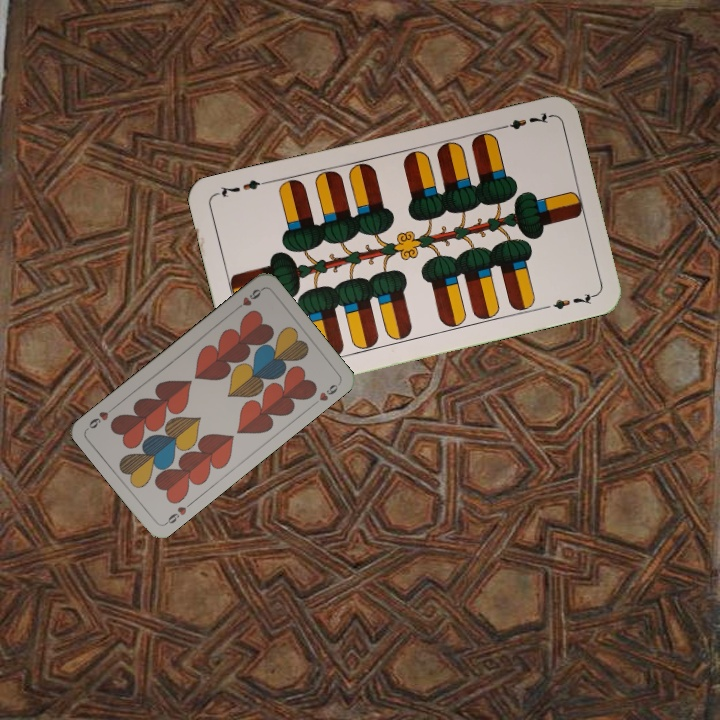E7: (494, 108, 552, 133)
H9: (161, 498, 195, 528), (231, 285, 265, 314)
